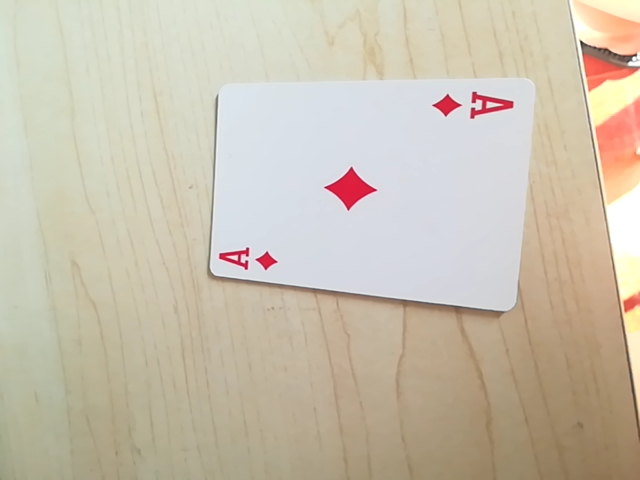fk a: (431, 88, 517, 128), (215, 241, 285, 276)
